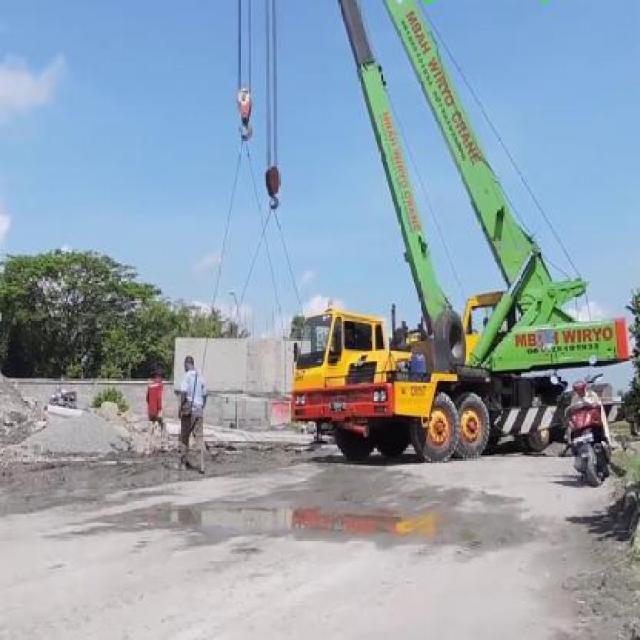Mobile Crane: (228, 0, 631, 458)
